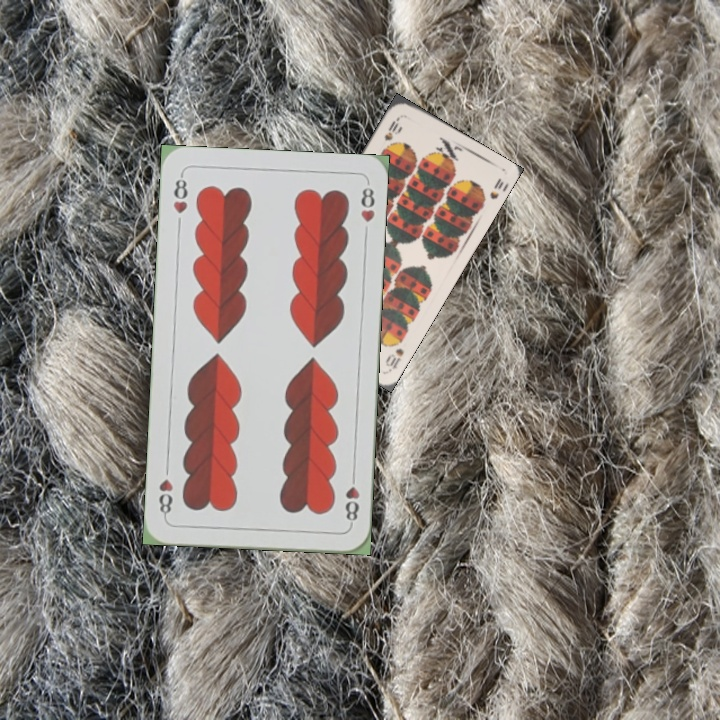H8: (341, 469, 362, 528), (169, 170, 190, 216)
S10: (380, 113, 405, 143), (381, 344, 406, 373)
